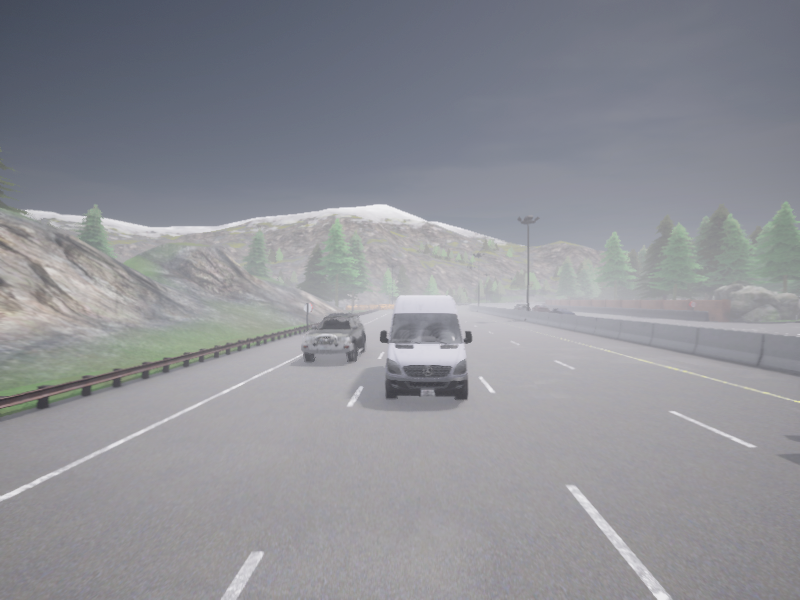vehicle: (380, 295, 471, 399), (301, 313, 366, 362), (548, 308, 573, 314), (531, 305, 548, 311), (513, 304, 529, 310)
